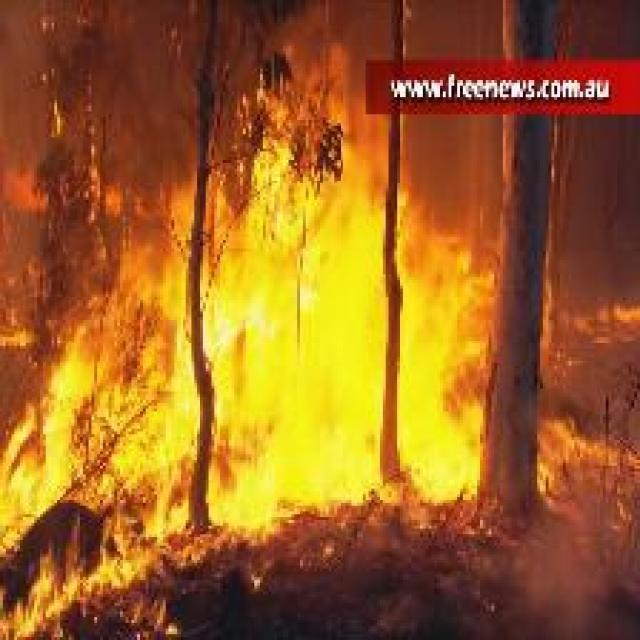Fire: (0, 37, 486, 637)
